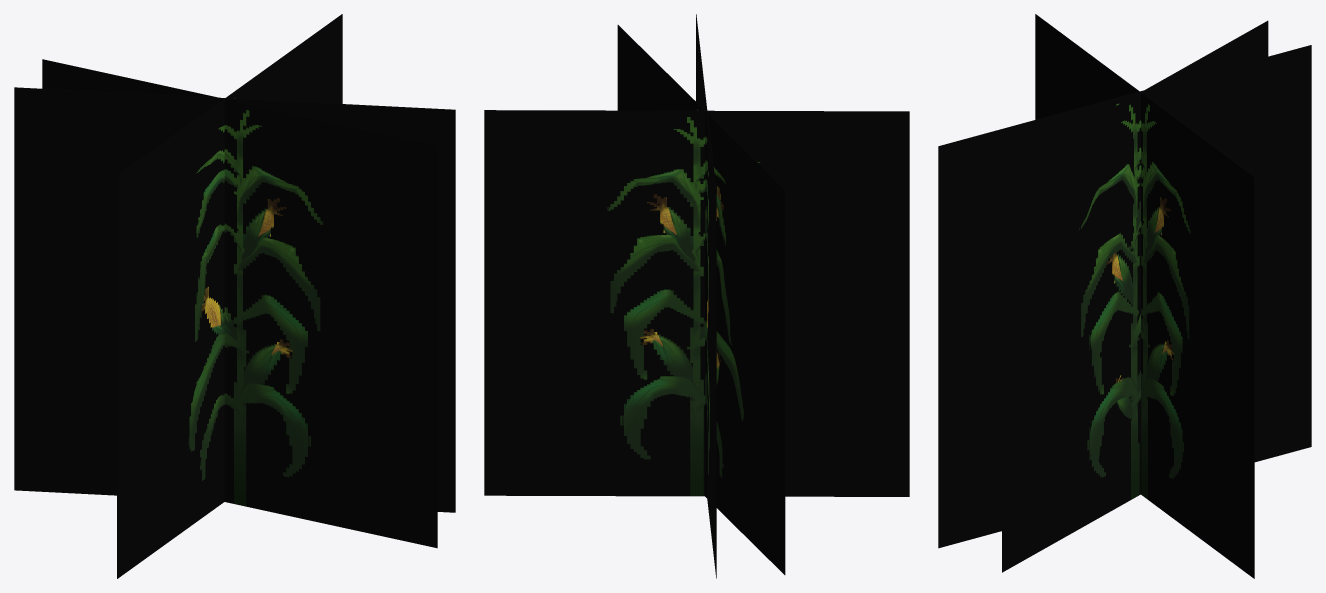
Rendered from corn 1.fbx.
3 renders of one model, left to right at view 1: azimuth 30°, elevation 25°; view 2: azimuth 150°, elevation 25°; view 3: azimuth 270°, elevation 25°, orthographic. The views are drawn at different scales.
Parts seen in each view (by area): view 1: corn.001; view 2: corn.001; view 3: corn.001.
Part boxes in pixels (left/top/right/bottom): corn.001: left=14, top=14, right=455, bottom=578; corn.001: left=484, top=14, right=909, bottom=578; corn.001: left=938, top=14, right=1311, bottom=578.
Bounding box in the file's own units: 2.66 × 3.06 × 2.57.
Materials: 2 (2 with a texture image).
